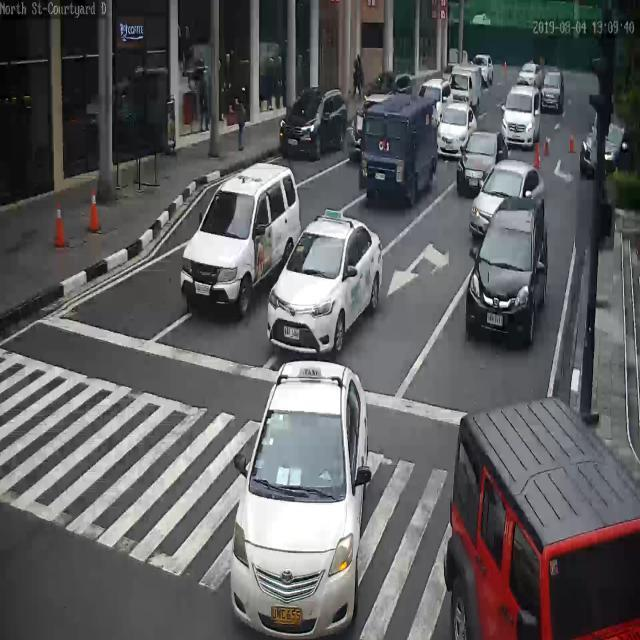bus: (358, 93, 441, 210)
car: (234, 361, 373, 638), (180, 162, 300, 320), (264, 213, 382, 363), (468, 199, 546, 351), (468, 160, 544, 237), (280, 90, 347, 163), (580, 115, 640, 181), (457, 132, 506, 198), (348, 91, 395, 159), (436, 104, 477, 157), (364, 73, 414, 99), (539, 67, 566, 112), (418, 77, 452, 105), (471, 51, 493, 89), (516, 62, 537, 84)
tricycle: (444, 396, 640, 640)
van: (502, 87, 540, 148), (446, 64, 482, 116)
